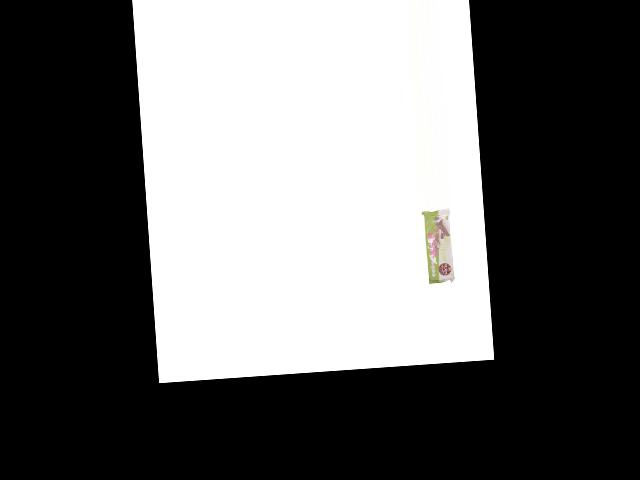chocolate: (422, 208, 458, 286)
